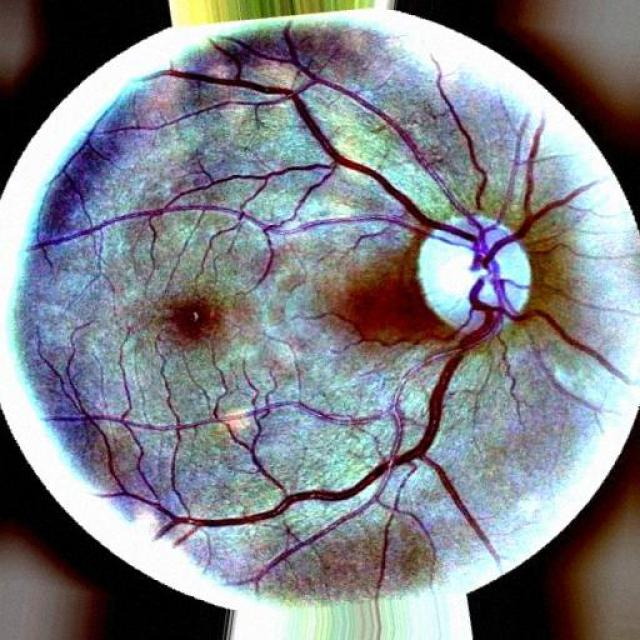Macula: (158, 298, 223, 357)
Nerves: (213, 264, 505, 528), (191, 65, 462, 241), (278, 37, 482, 229), (479, 128, 599, 262), (486, 270, 619, 382)
Optic Disk: (406, 207, 530, 328)
